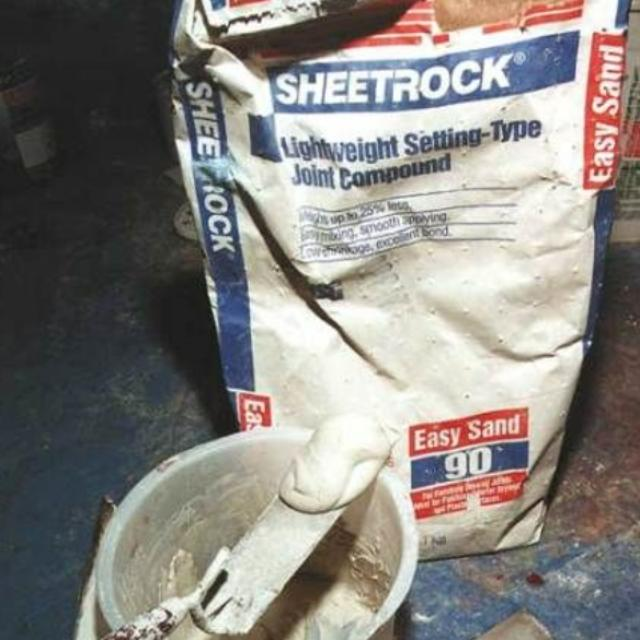KantongSemen: (161, 0, 638, 564)
